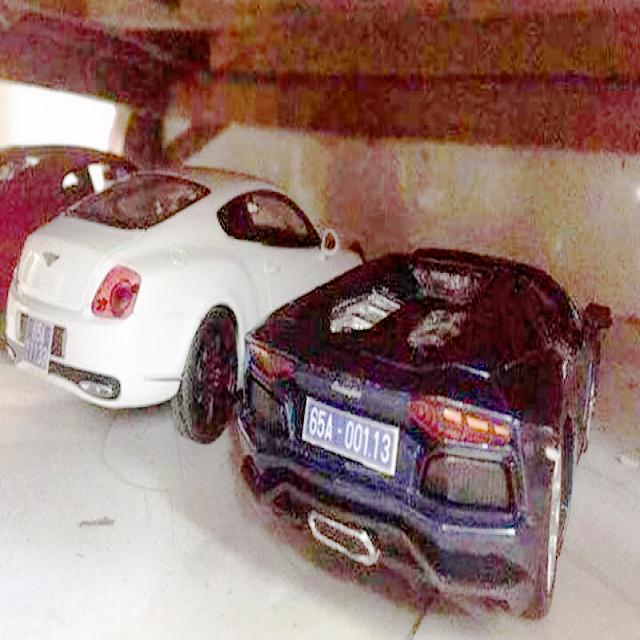license_plate: (305, 399, 400, 474)
